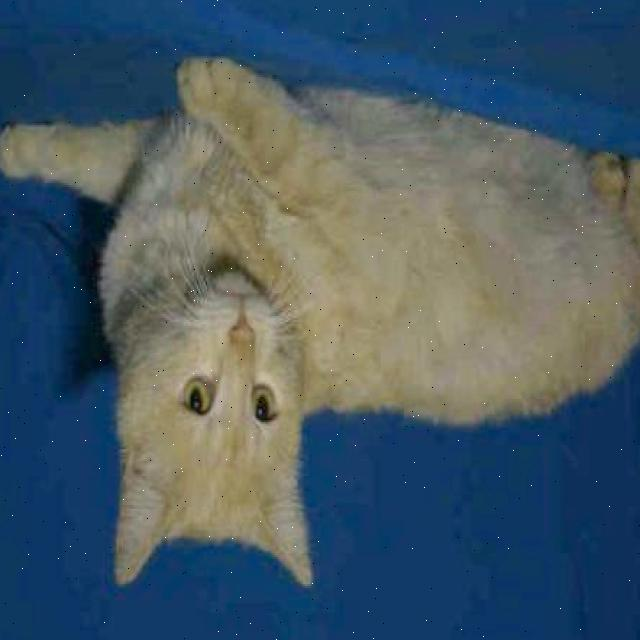Cat: (85, 257, 328, 606)
